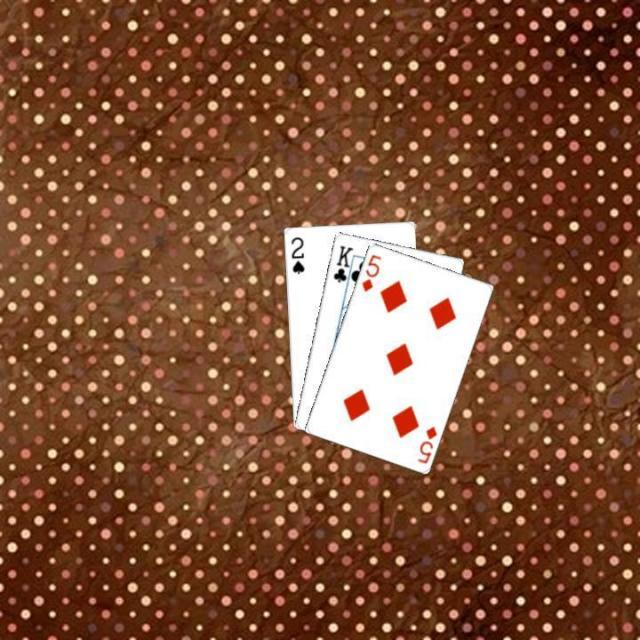2S: (287, 232, 306, 276)
5D: (357, 250, 383, 294), (413, 422, 439, 465)
KC: (329, 241, 357, 290)
